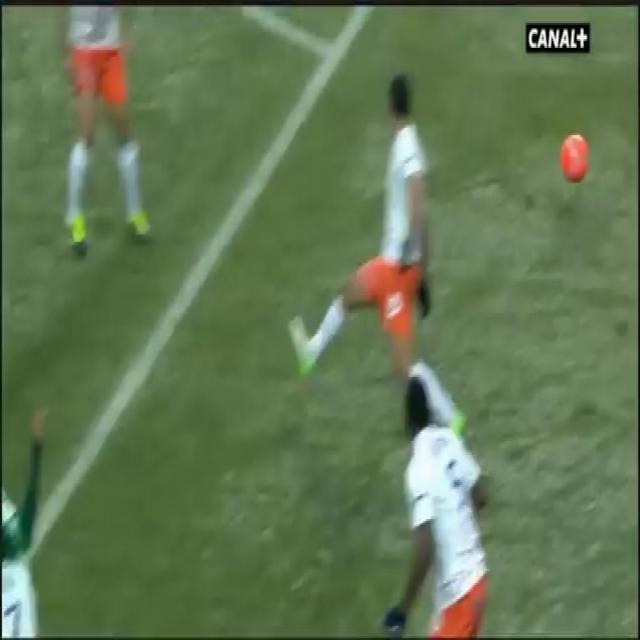ball: (545, 125, 596, 209)
player: (323, 27, 494, 448), (383, 346, 516, 640), (45, 0, 175, 265), (1, 419, 90, 640)
